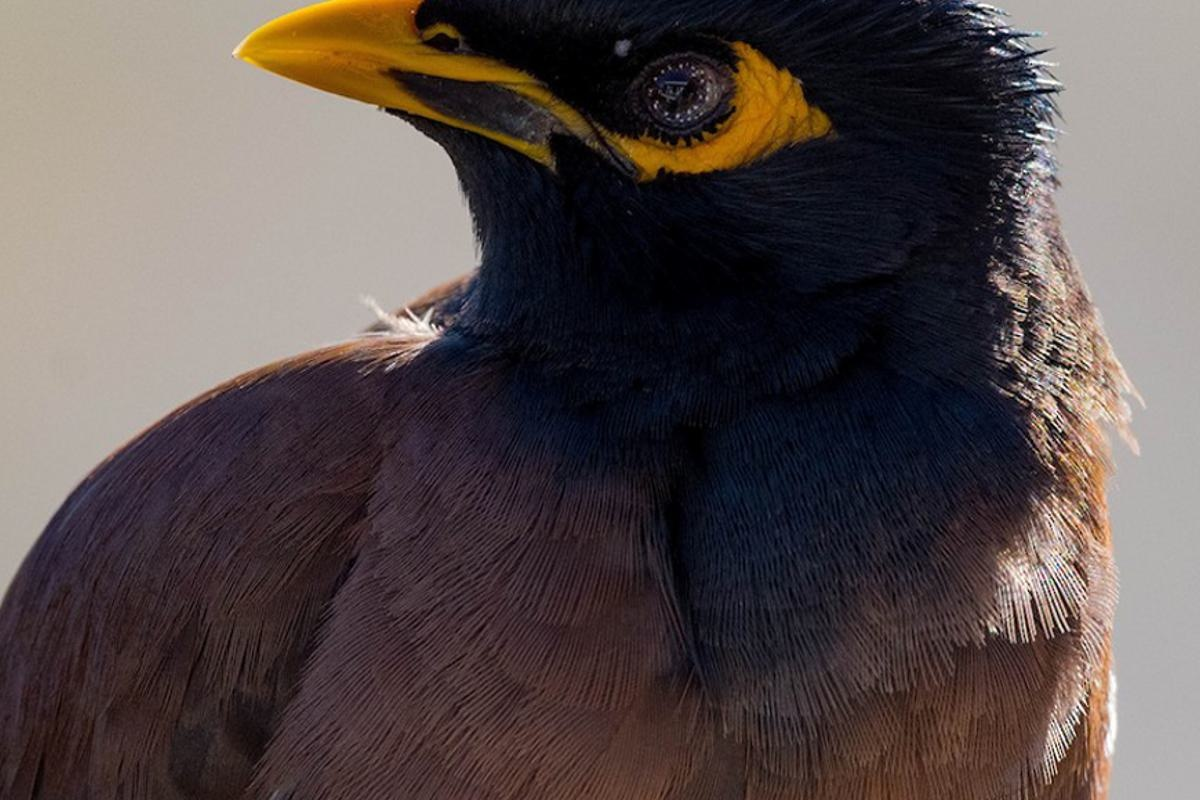myna: (116, 5, 1126, 800)
